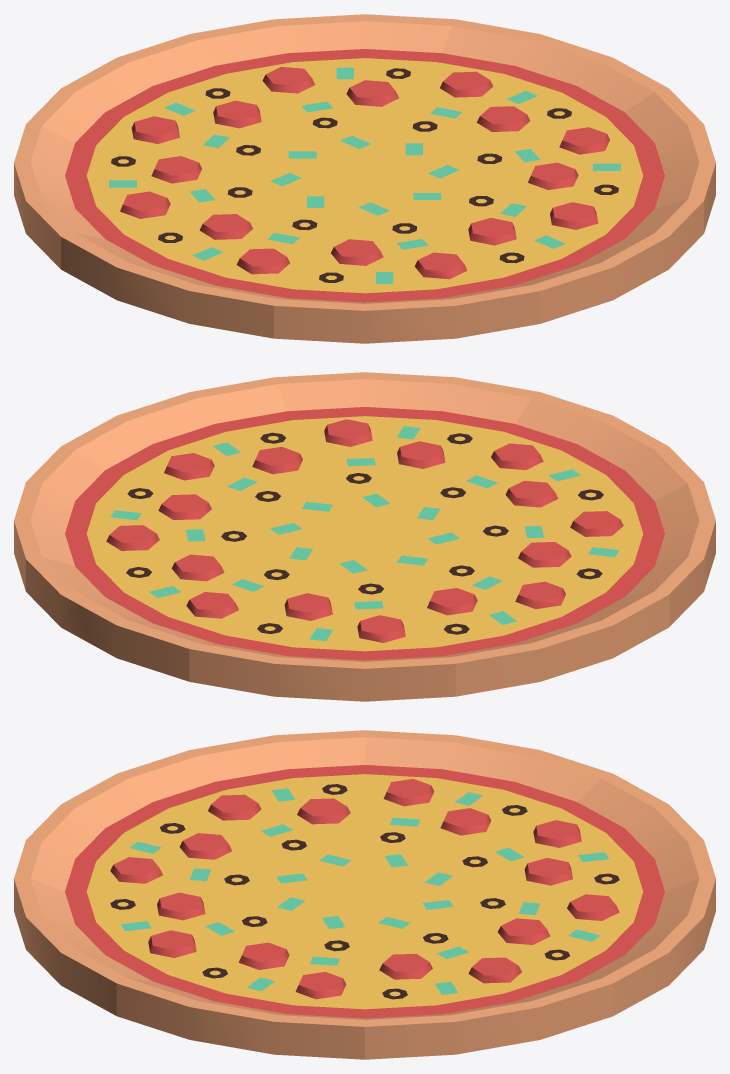
The model's file is pizza.dae.
3 views of the same model, one above another, from view 1: azimuth 30°, elevation 25°; view 2: azimuth 150°, elevation 25°; view 3: azimuth 270°, elevation 25° (orthographic).
Parts seen in each view (by area): view 1: slice6, slice5, slice7, slice2, slice1, slice3, slice4, slice8; view 2: slice3, slice4, slice2, slice7, slice8, slice6, slice5, slice1; view 3: slice1, slice8, slice4, slice5, slice2, slice7, slice3, slice6.
Boxes of the visible parts, <box> form: slice6: <box>274,176,540,343</box>; slice5: <box>61,176,364,338</box>; slice7: <box>365,175,703,323</box>; slice2: <box>190,14,455,175</box>; slice1: <box>365,19,668,175</box>; slice3: <box>26,34,364,175</box>; slice4: <box>14,124,364,268</box>; slice8: <box>366,88,715,232</box>; slice3: <box>189,534,455,701</box>; slice4: <box>365,534,668,696</box>; slice2: <box>26,533,364,681</box>; slice7: <box>274,372,539,533</box>; slice8: <box>61,377,364,533</box>; slice6: <box>365,392,703,533</box>; slice5: <box>365,482,715,626</box>; slice1: <box>14,446,363,590</box>; slice1: <box>365,892,613,1059</box>; slice8: <box>116,892,364,1059</box>; slice4: <box>365,730,612,891</box>; slice5: <box>117,730,364,891</box>; slice2: <box>365,878,715,1015</box>; slice7: <box>14,878,364,1015</box>; slice3: <box>366,774,715,891</box>; slice6: <box>14,774,363,891</box>.
Bounding box in the file's own units: 0.8418 × 0.0435 × 0.8418.
